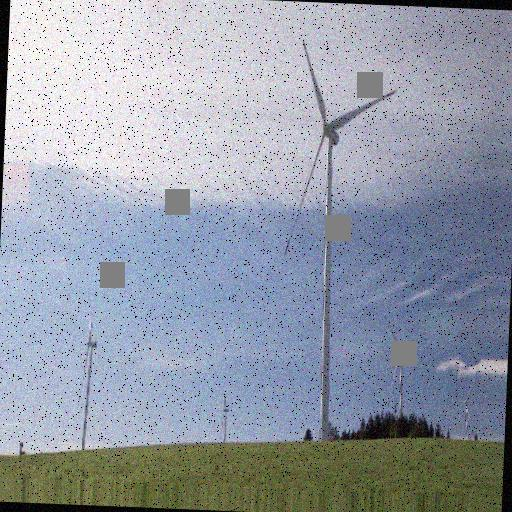wind turbine: (286, 41, 396, 440), (73, 317, 101, 454)
